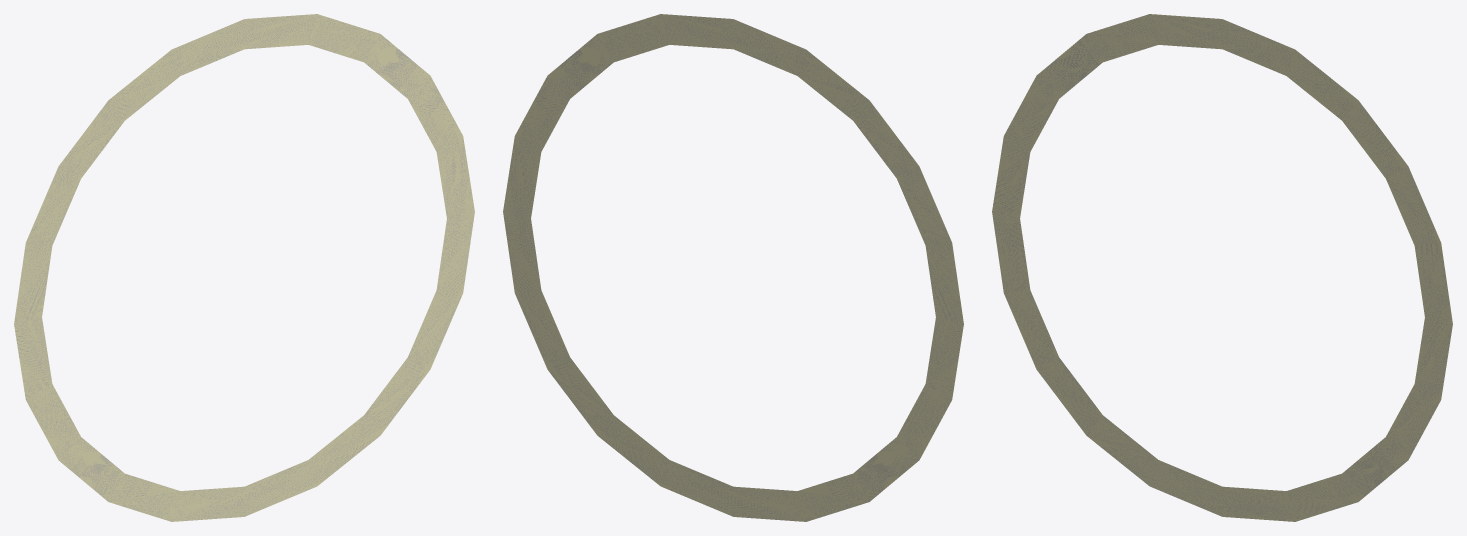
Rendered from original-9.obj.
The picture shows the model from 3 angles, left to right: view 1: azimuth 30°, elevation 25°; view 2: azimuth 150°, elevation 25°; view 3: azimuth 330°, elevation 25°; orthographic projection.
Parts seen in each view (by area): view 1: mesh5/mesh5-geometry#mesh5-geometry; view 2: mesh5/mesh5-geometry#mesh5-geometry; view 3: mesh5/mesh5-geometry#mesh5-geometry.
Boxes of the visible parts, x1,y1,x2,y2 form: mesh5/mesh5-geometry#mesh5-geometry: [14, 14, 474, 521]; mesh5/mesh5-geometry#mesh5-geometry: [503, 14, 963, 521]; mesh5/mesh5-geometry#mesh5-geometry: [992, 14, 1452, 521].
Bounding box in the file's own units: 0.0261 × 0.0269 × 0.
